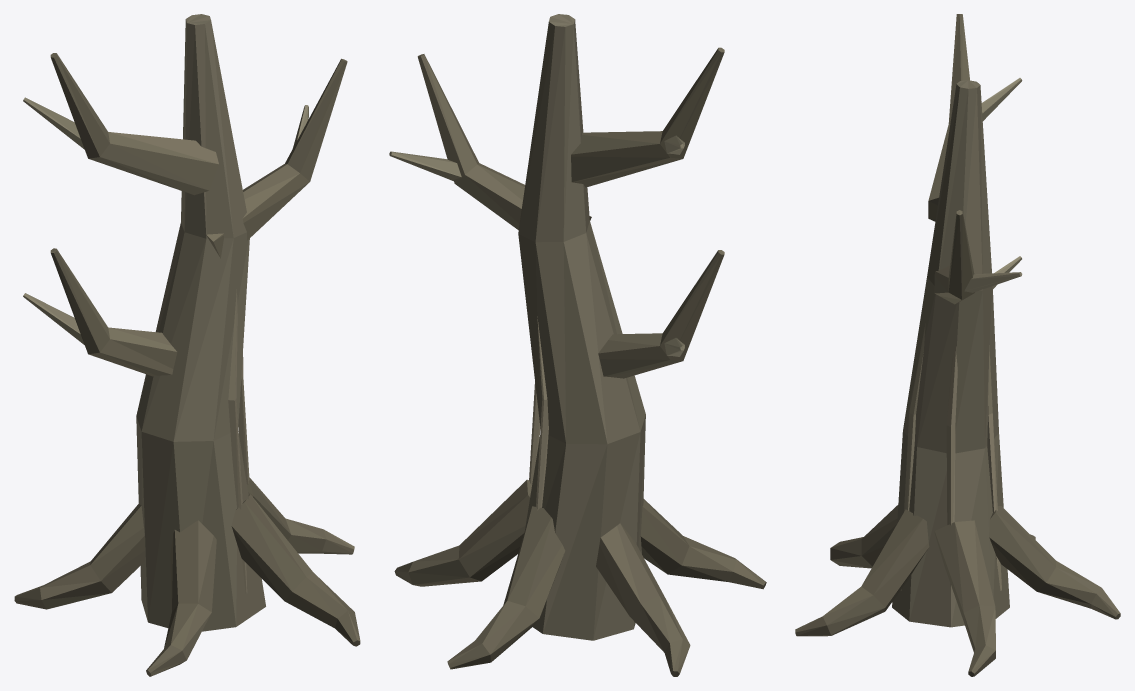
Rendered from wetland_deadtree.glb.
3 renders of one model, left to right at view 1: azimuth 30°, elevation 25°; view 2: azimuth 150°, elevation 25°; view 3: azimuth 270°, elevation 25°, orthographic. The views are drawn at different scales.
Visible parts, largest first — view 1: geometry; view 2: geometry; view 3: geometry.
Boxes of the visible parts, x1,y1,x2,y2 form: geometry: [14, 14, 360, 676]; geometry: [389, 14, 766, 676]; geometry: [795, 14, 1120, 676].
Size of the model in its own units: 1.5 by 2.7 by 1.49.
